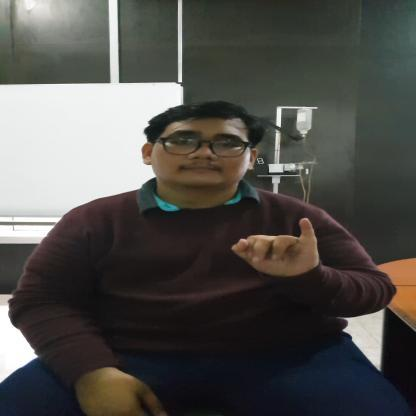I: (227, 214, 326, 276)
